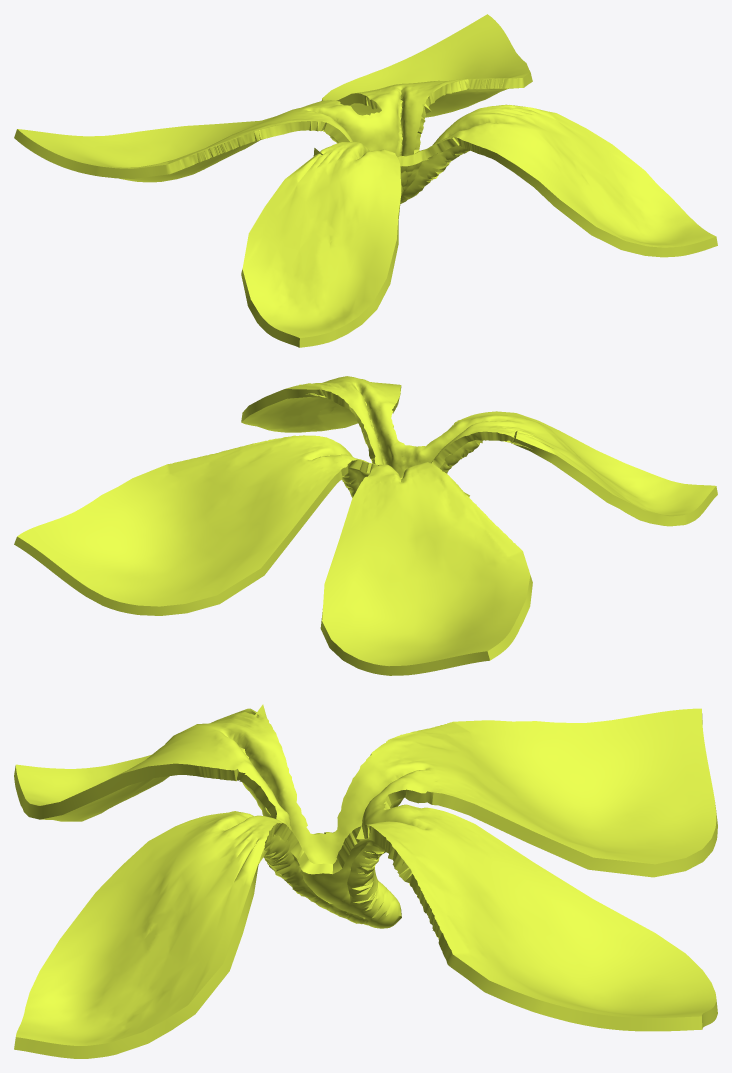
3 renders of one model, top to bottom at view 1: azimuth 30°, elevation 25°; view 2: azimuth 150°, elevation 25°; view 3: azimuth 270°, elevation 25°, orthographic. The views are drawn at different scales.
Visible parts, largest first — view 1: split_parent_0; view 2: split_parent_0; view 3: split_parent_0.
Boxes of the visible parts, x1,y1,x2,y2 form: split_parent_0: [14, 14, 717, 347]; split_parent_0: [14, 376, 717, 675]; split_parent_0: [14, 704, 717, 1058].
Size of the model in its own units: 1 by 0.2351 by 0.9545.
